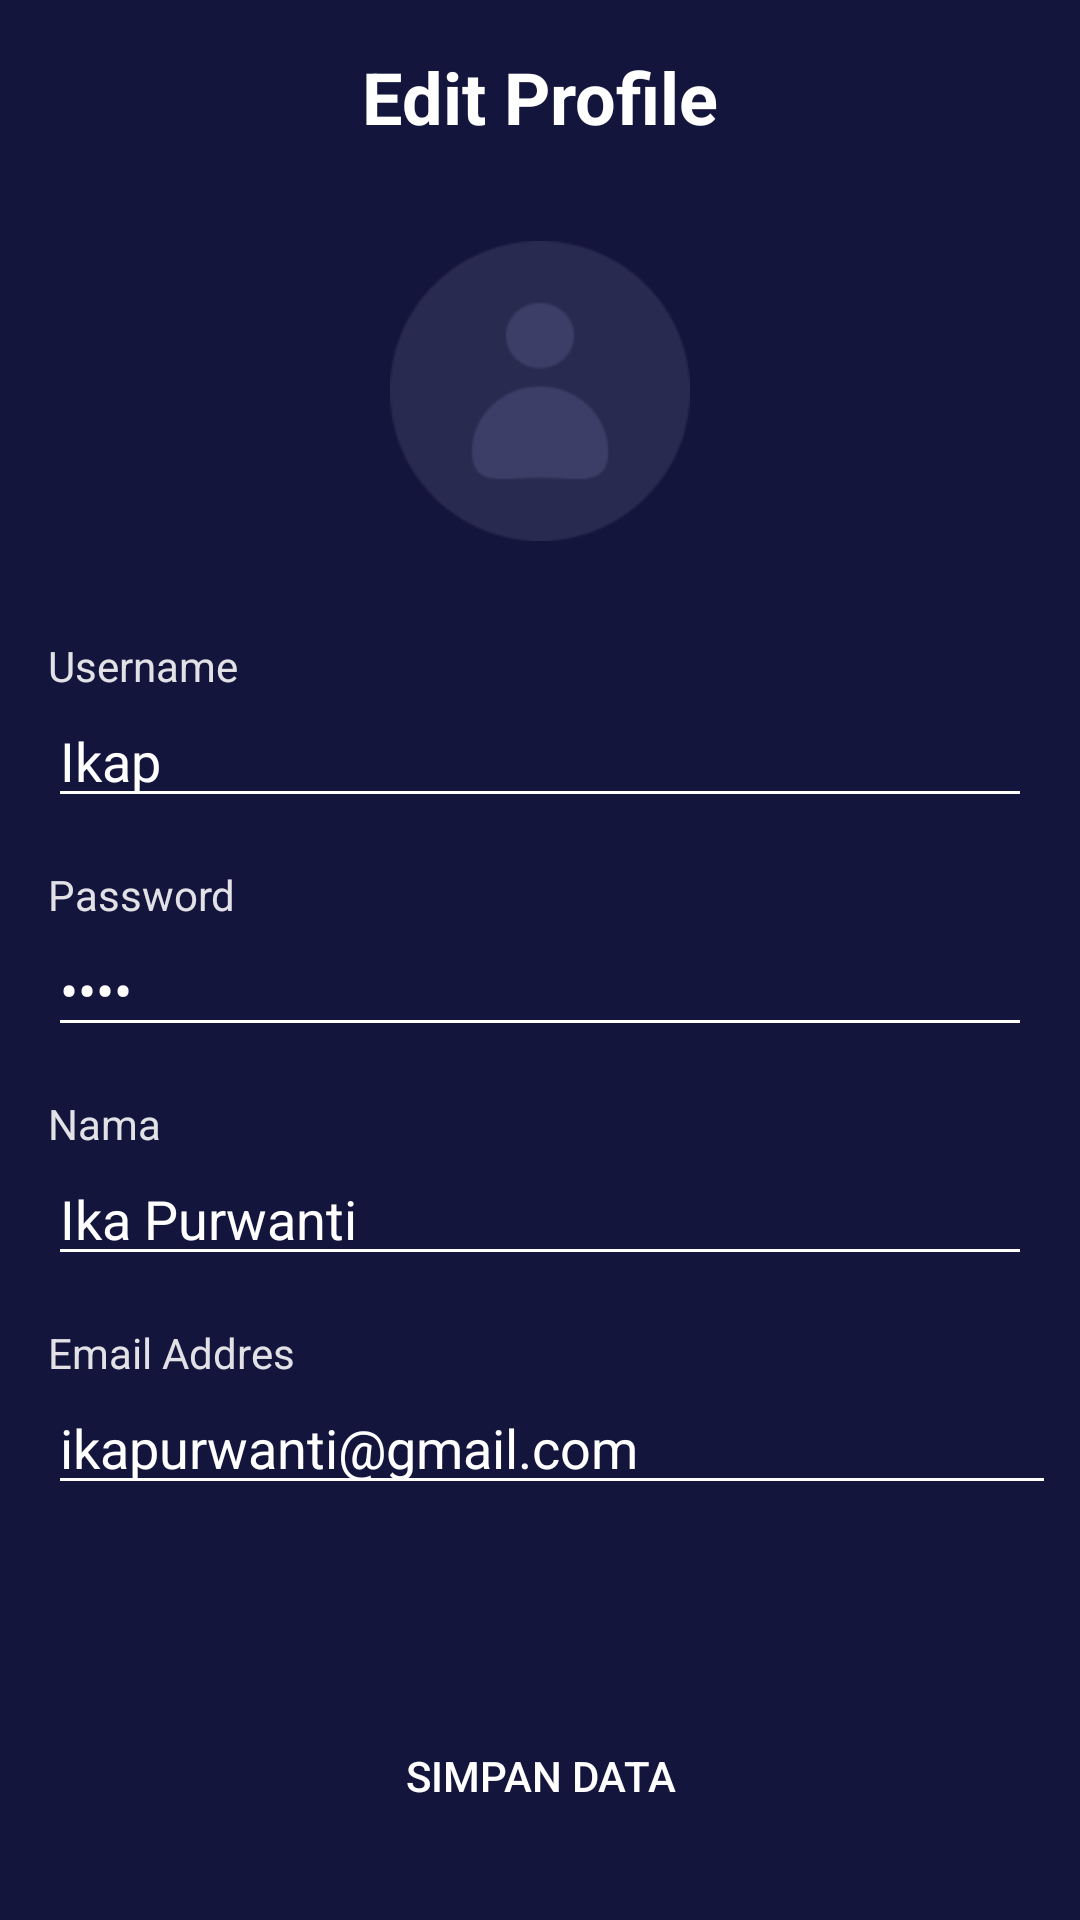

Where to tap for icons on this 1080*1920 app screen, as [x,y]:
user pic: [540,391]
